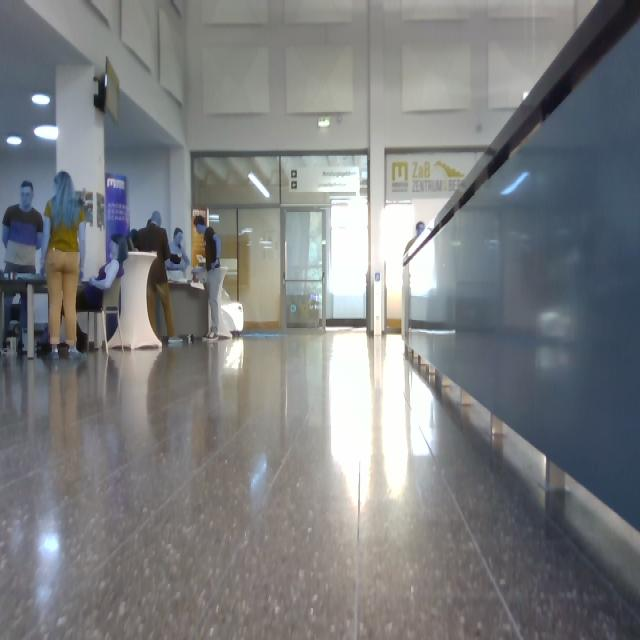chair: (79, 280, 123, 352)
door: (327, 197, 368, 329), (239, 210, 281, 328), (285, 210, 325, 328)
light bulb: (501, 172, 528, 194), (249, 172, 270, 200), (34, 125, 58, 141), (32, 94, 51, 106), (7, 136, 22, 145), (319, 117, 330, 128)
person: (44, 172, 85, 357), (132, 212, 181, 344), (193, 216, 231, 338), (78, 234, 128, 312), (3, 181, 43, 278), (167, 228, 190, 281), (407, 222, 424, 250)
staircase: (404, 1, 640, 530)
table: (107, 252, 162, 353), (1, 273, 48, 358)
tiled floor: (1, 332, 640, 640)
